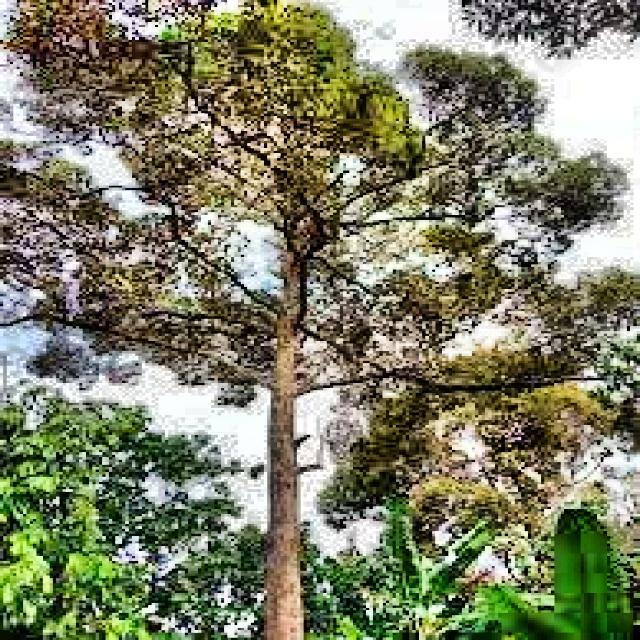arvore: (241, 215, 343, 640)
